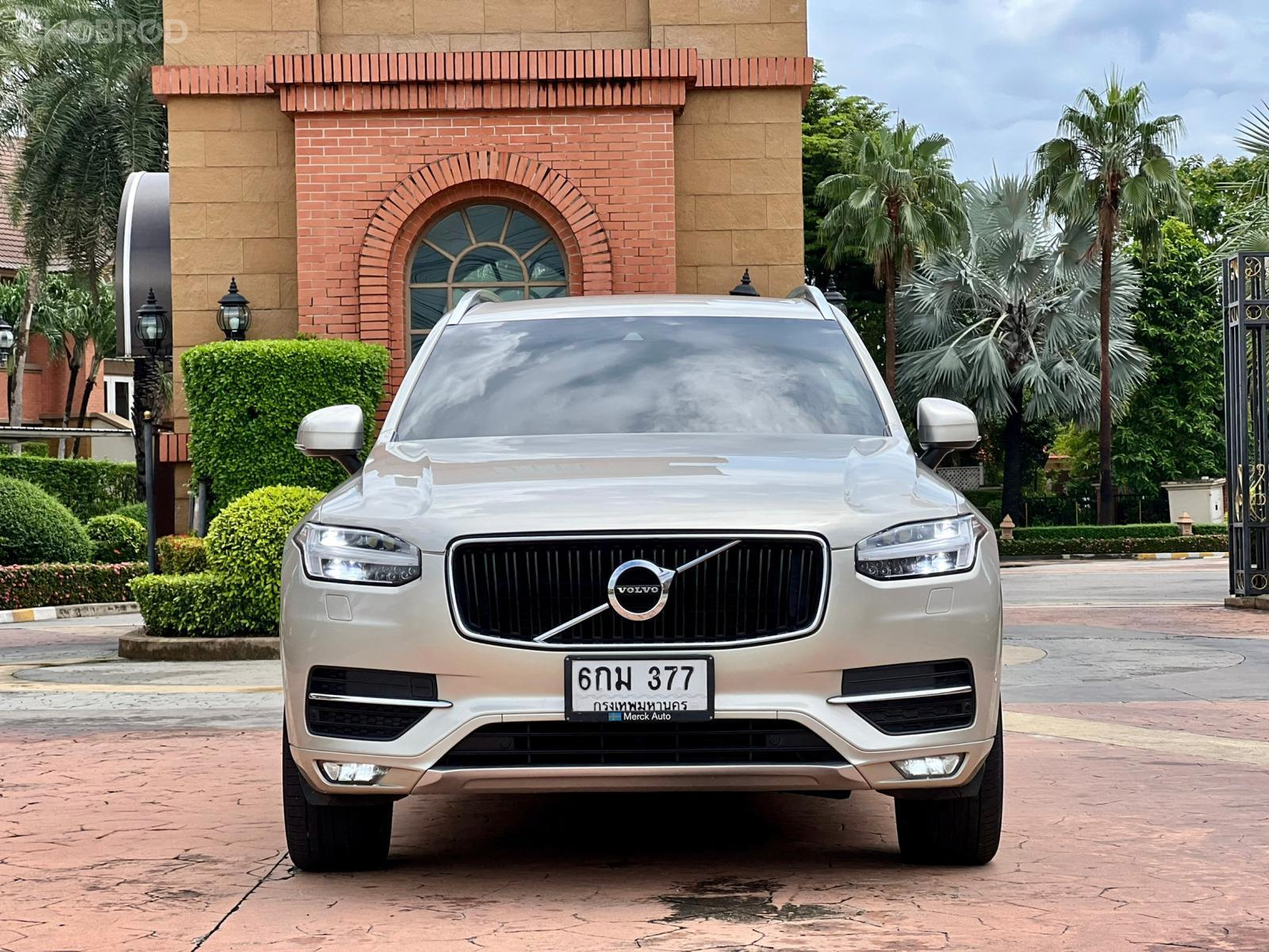license-plate: (562, 649, 716, 726)
